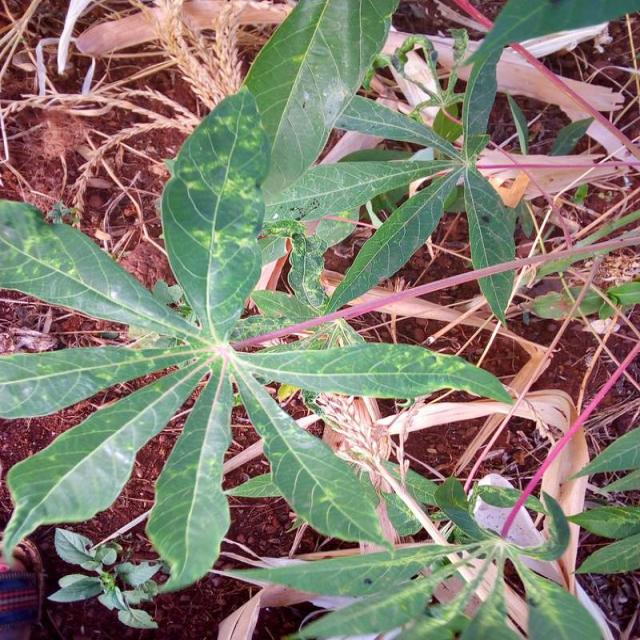cassava leaf: (159, 84, 271, 342), (144, 355, 234, 594)
